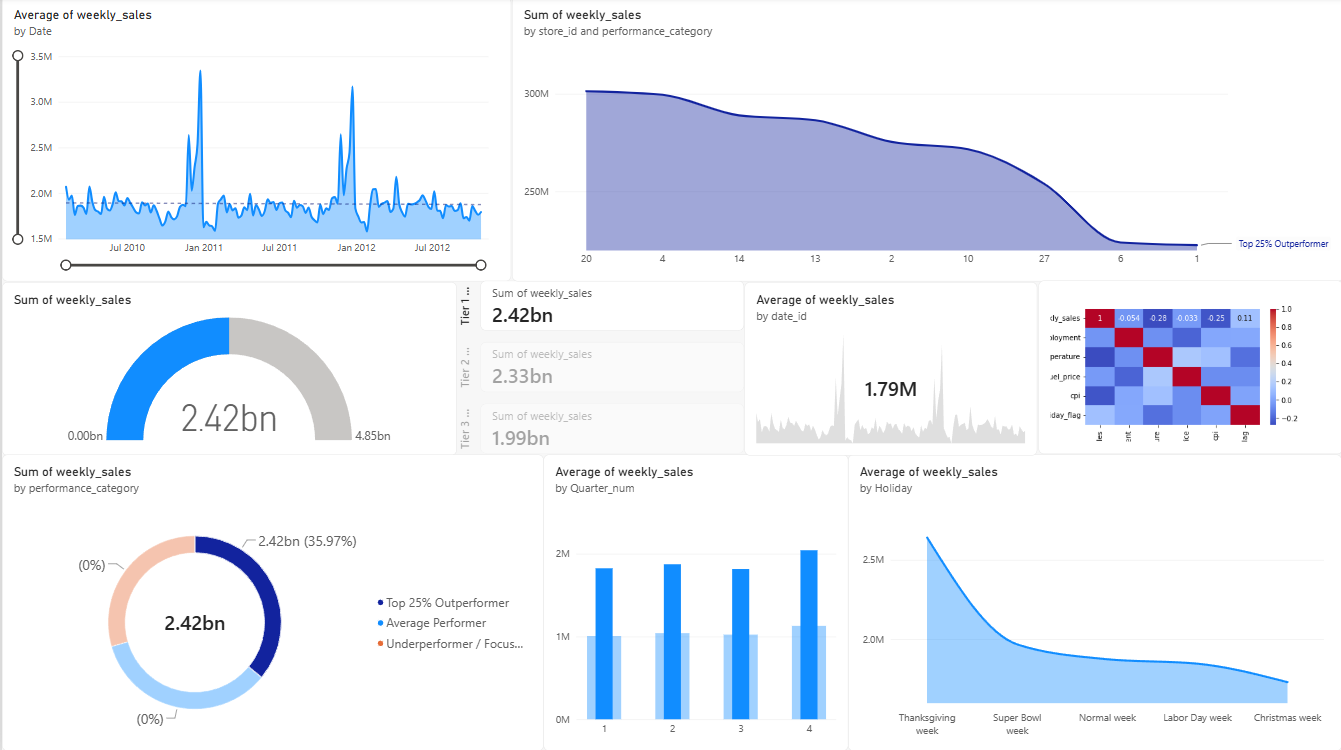

The page's visual inventory and layout, read from the dashboard file:
{"tool":"powerbi","page":{"name":"Page 1","canvas":[1920,1080],"ordinal":0},"visuals":[{"type":"areaChart","fields":{"Category":["Calendar.Date"],"Y":["Avg(sales fact_weekly_sales.weekly_sales)"]},"box":[0,0,729.5,407.4],"z":1000},{"type":"cardVisual","fields":{"Data":["Sum(sales fact_weekly_sales.weekly_sales)"],"Rows":["sales dim_store.sales_tier"]},"box":[651,406.1,412.3,248.9],"z":1001},{"type":"stackedAreaChart","fields":{"Category":["sales dim_date.Holiday"],"Y":["Avg(sales fact_weekly_sales.weekly_sales)"]},"box":[1212.6,656.3,707.5,424.5],"z":1002},{"type":"areaChart","fields":{"Category":["sales fact_weekly_sales.store_id"],"Series":["sales dim_store.performance_category"],"Y":["Sum(sales fact_weekly_sales.weekly_sales)"]},"box":[729.5,0,1190.6,407.4],"z":1003},{"type":"gauge","fields":{"Y":["Sum(sales fact_weekly_sales.weekly_sales)"]},"box":[0,407.4,651.4,248.9],"z":1004},{"type":"columnChart","fields":{"Category":["sales dim_date.Quarter_num"],"Y":["Avg(sales fact_weekly_sales.weekly_sales)"]},"box":[775.9,656.3,436.7,424.5],"z":1005},{"type":"kpi","fields":{"Indicator":["Avg(sales fact_weekly_sales.weekly_sales)"],"TrendLine":["sales fact_weekly_sales.date_id"]},"box":[1063.8,407.4,419.6,248.9],"z":1006},{"type":"pythonVisual","fields":{"Values":["sales fact_weekly_sales.weekly_sales","sales fact_weekly_sales.unemployment","sales fact_weekly_sales.temperature","sales fact_weekly_sales.fuel_price","Sum(sales fact_weekly_sales.cpi)","sales dim_date.Holiday_flag"]},"box":[1485.3,407,436.1,248.4],"z":1007},{"type":"donutChart","fields":{"Category":["sales dim_store.performance_category"],"Y":["Sum(sales fact_weekly_sales.weekly_sales)"]},"box":[0,656.3,775.9,424.5],"z":1008}]}

Visuals, with their boxes in screenshot pixels (x1, y1, x2, y2), scaled from the page's 1920x1080 canvas onto the 1341x750 screenshot:
areaChart - Calendar.Date x Avg(sales fact_weekly_sales.weekly_sales): bbox(0, 0, 510, 283)
cardVisual - Sum(sales fact_weekly_sales.weekly_sales) x sales dim_store.sales_tier: bbox(455, 282, 743, 455)
stackedAreaChart - sales dim_date.Holiday x Avg(sales fact_weekly_sales.weekly_sales): bbox(847, 456, 1340, 749)
areaChart - sales fact_weekly_sales.store_id x sales dim_store.performance_category: bbox(510, 0, 1340, 283)
gauge - Sum(sales fact_weekly_sales.weekly_sales): bbox(0, 283, 455, 456)
columnChart - sales dim_date.Quarter_num x Avg(sales fact_weekly_sales.weekly_sales): bbox(542, 456, 847, 749)
kpi - Avg(sales fact_weekly_sales.weekly_sales) x sales fact_weekly_sales.date_id: bbox(743, 283, 1036, 456)
pythonVisual - sales fact_weekly_sales.weekly_sales x sales fact_weekly_sales.unemployment: bbox(1037, 283, 1340, 455)
donutChart - sales dim_store.performance_category x Sum(sales fact_weekly_sales.weekly_sales): bbox(0, 456, 542, 749)
